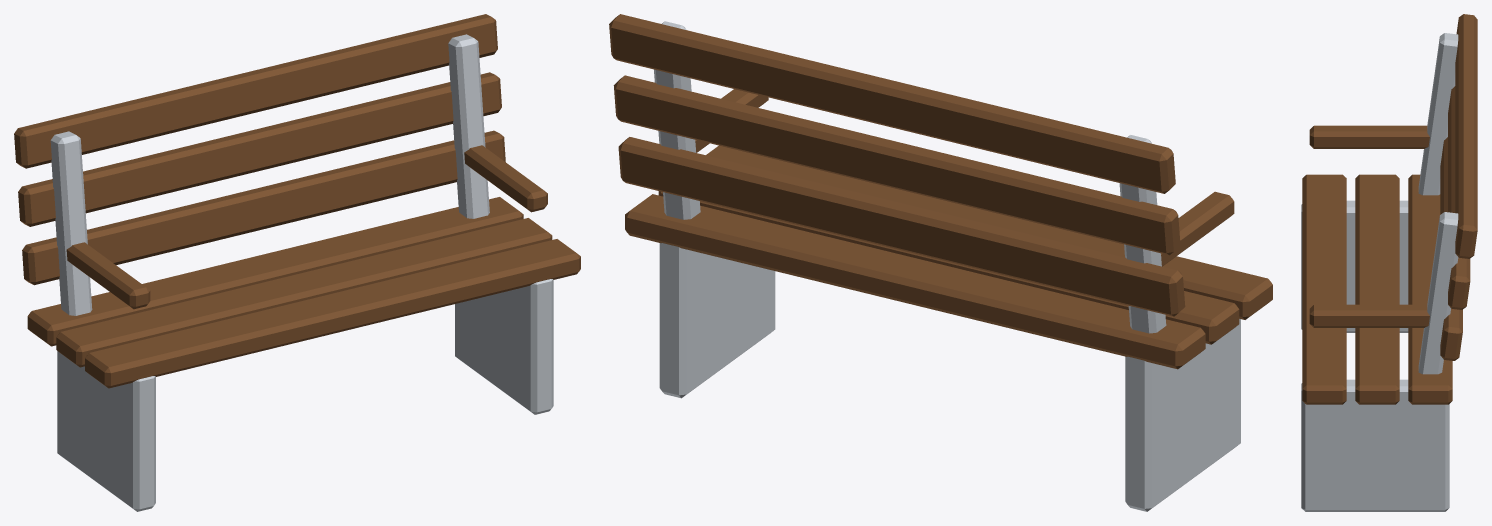
File: bench.glb
3 views of the same model, side by side, from view 1: azimuth 30°, elevation 25°; view 2: azimuth 150°, elevation 25°; view 3: azimuth 270°, elevation 25° (orthographic). The views are drawn at different scales.
Visible parts, largest first — view 1: seat_slat_0, back_slat_2, back_slat_1, back_slat_0, seat_slat_1, seat_slat_2, leg_l, leg_r, back_post_l, back_post_r, arm_l, arm_r; view 2: back_slat_2, back_slat_1, back_slat_0, seat_slat_2, leg_l, leg_r, seat_slat_0, seat_slat_1, arm_l, back_post_r, back_post_l; view 3: leg_r, seat_slat_0, seat_slat_1, back_slat_2, seat_slat_2, back_post_r, back_post_l, arm_l, arm_r, leg_l, back_slat_1, back_slat_0.
Boxes of the visible parts, x1,y1,x2,y2 form: seat_slat_0: (85, 239, 580, 388); back_slat_2: (14, 14, 497, 168); back_slat_1: (18, 72, 501, 226); back_slat_0: (22, 130, 505, 285); seat_slat_1: (56, 218, 552, 367); seat_slat_2: (27, 197, 523, 346); leg_l: (57, 351, 155, 511); leg_r: (455, 279, 553, 414); back_post_l: (50, 131, 92, 315); back_post_r: (448, 34, 489, 218); arm_l: (66, 242, 150, 309); arm_r: (464, 145, 547, 212); back_slat_2: (609, 14, 1175, 193); back_slat_1: (613, 75, 1180, 255); back_slat_0: (618, 137, 1185, 316); seat_slat_2: (625, 194, 1205, 369); leg_l: (1125, 319, 1240, 511); leg_r: (659, 243, 775, 398); seat_slat_0: (706, 145, 1272, 319); seat_slat_1: (658, 191, 1239, 344); arm_l: (1161, 191, 1234, 266); back_post_r: (654, 21, 700, 219); back_post_l: (1119, 135, 1166, 333); leg_r: (1301, 379, 1449, 511); seat_slat_0: (1302, 174, 1346, 404); seat_slat_1: (1355, 174, 1399, 404); back_slat_2: (1455, 14, 1477, 258); seat_slat_2: (1408, 174, 1452, 404); back_post_r: (1418, 212, 1458, 374); back_post_l: (1418, 33, 1458, 195); arm_l: (1309, 125, 1429, 148); arm_r: (1309, 304, 1429, 327); leg_l: (1301, 200, 1408, 332); back_slat_1: (1448, 86, 1470, 309); back_slat_0: (1440, 137, 1462, 360).
Size of the model in its own units: 2.3 by 1.5 by 0.8.
